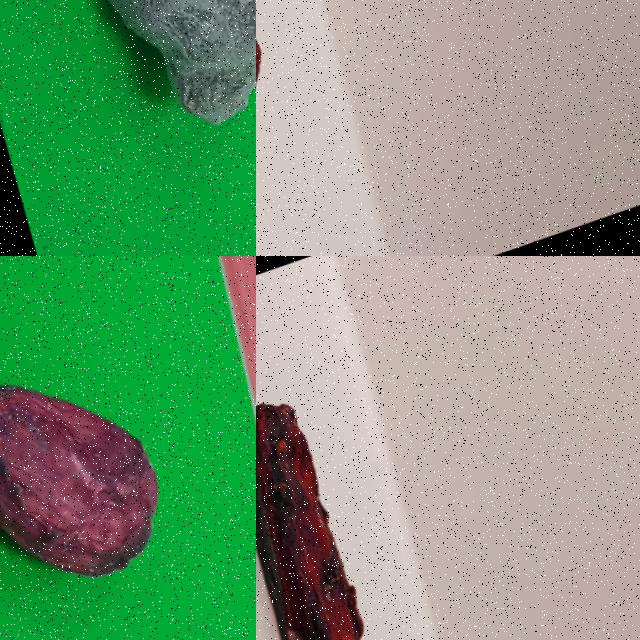Agglomerated_cocoabeans: (18, 0, 255, 198)
Fine_cocoabeans: (0, 263, 255, 639), (256, 0, 366, 212)
Flat_cocoabeans: (256, 316, 467, 639)
